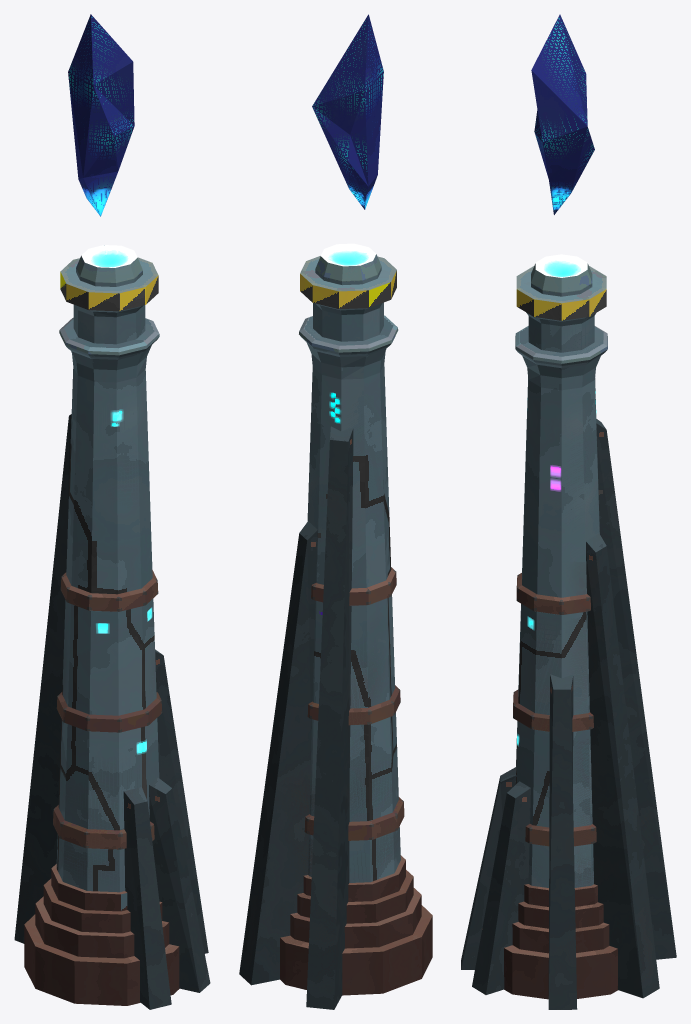
File: chrono_tower_shaded.glb
The picture shows the model from 3 angles, left to right: view 1: azimuth 30°, elevation 25°; view 2: azimuth 150°, elevation 25°; view 3: azimuth 270°, elevation 25°; orthographic projection. The views are drawn at different scales.
Visible parts, largest first — view 1: Crystal_Lighthouse_001_lambert1_0; view 2: Crystal_Lighthouse_001_lambert1_0; view 3: Crystal_Lighthouse_001_lambert1_0.
Part boxes in pixels (bbox=[...]): Crystal_Lighthouse_001_lambert1_0: bbox=[14, 14, 210, 1009]; Crystal_Lighthouse_001_lambert1_0: bbox=[239, 14, 432, 1009]; Crystal_Lighthouse_001_lambert1_0: bbox=[461, 14, 676, 1009].
Size of the model in its own units: 11.45 by 63.15 by 13.1.
Materials: 1 (1 with a texture image).
